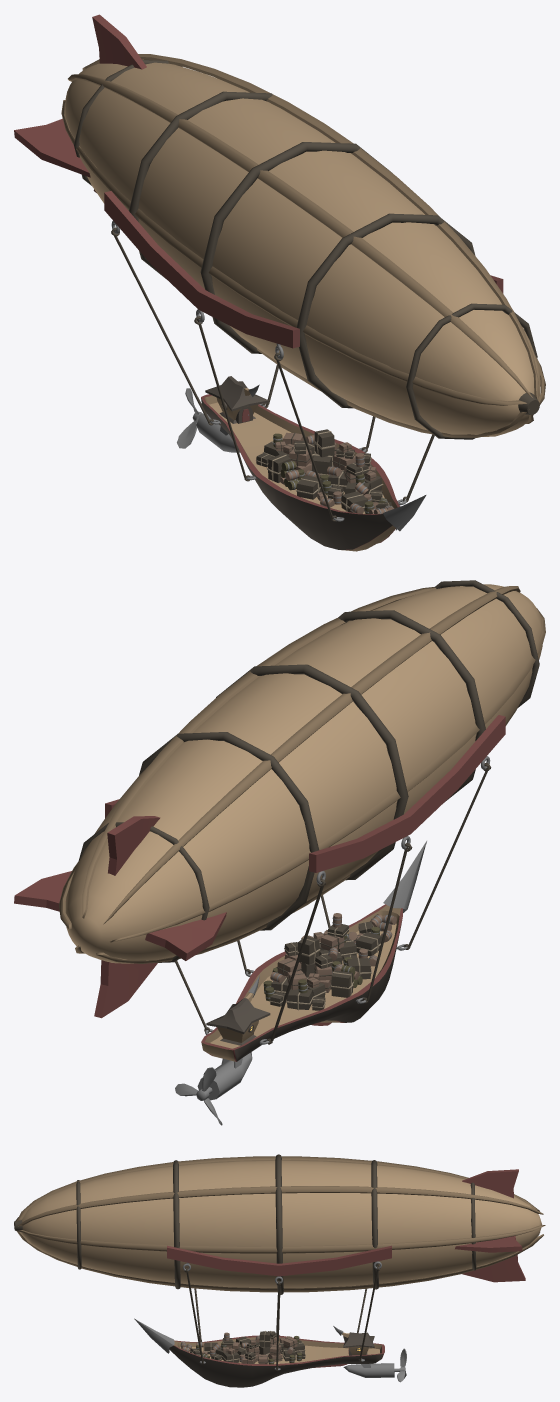
File: Carry ship.fbx
3 views of the same model, one above another, from view 1: azimuth 30°, elevation 25°; view 2: azimuth 150°, elevation 25°; view 3: azimuth 270°, elevation 25° (orthographic). The views are drawn at different scales.
Parts seen in each view (by area): view 1: polySurface253, polySurface85, pTorus21, polySurface259, polySurface260, polySurface258, pTorus3, pTorus1, polySurface252, pTorus2, pTorus4, polySurface251 (+6 smaller); view 2: polySurface253, pTorus21, polySurface85, polySurface259, polySurface260, polySurface258, pTorus3, pTorus2, pTorus1, polySurface249, polySurface252, polySurface269 (+8 smaller); view 3: polySurface253, polySurface85, polySurface263, polySurface260, polySurface255, polySurface259, polySurface256, polySurface249, polySurface251, polySurface269, pTorus3, pTorus1 (+7 smaller).
Boxes of the visible parts, x1,y1,x2,y2 form: polySurface253: (65,59,540,436); polySurface85: (201,394,400,551); pTorus21: (104,191,344,521); polySurface259: (68,74,532,397); polySurface260: (82,54,538,400); polySurface258: (61,100,526,405); pTorus3: (200,142,391,353); pTorus1: (296,213,475,408); polySurface252: (14,118,90,177); pTorus2: (129,91,272,278); pTorus4: (406,303,537,439); polySurface251: (92,14,146,69); polySurface253: (65,584,542,963); pTorus21: (259,715,505,1044); polySurface85: (201,904,402,1061); polySurface259: (103,586,520,924); polySurface260: (82,587,436,918); polySurface258: (110,608,545,942); pTorus3: (216,664,408,880); pTorus2: (139,732,318,930); pTorus1: (338,610,485,802); polySurface249: (94,960,157,1018); polySurface252: (145,912,226,960); polySurface269: (175,1052,252,1125); polySurface253: (22,1160,542,1288); polySurface85: (169,1335,384,1387); polySurface263: (167,1245,391,1370); polySurface260: (18,1186,543,1226); polySurface255: (18,1225,545,1253); polySurface259: (16,1156,539,1221); polySurface256: (16,1231,543,1292); polySurface249: (462,1255,525,1282); polySurface251: (462,1169,518,1198); polySurface269: (343,1348,406,1382); pTorus3: (275,1154,283,1294); pTorus1: (173,1160,180,1289).
Size of the model in its own units: 55.14 by 92.6 by 198.
